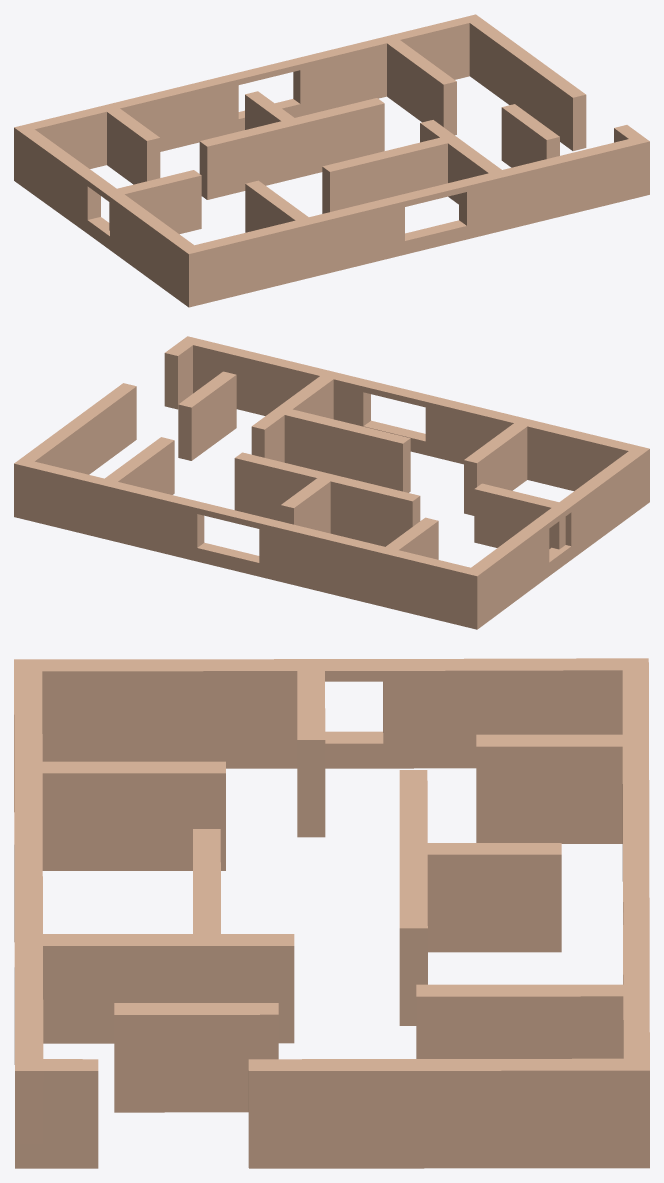
Rendered from Level 7.fbx.
3 renders of one model, top to bottom at view 1: azimuth 30°, elevation 25°; view 2: azimuth 150°, elevation 25°; view 3: azimuth 270°, elevation 25°, orthographic. The views are drawn at different scales.
Visible parts, largest first — view 1: polySurface81; view 2: polySurface81; view 3: polySurface81.
Part boxes in pixels (bbox=[...]): polySurface81: bbox=[14, 14, 649, 307]; polySurface81: bbox=[14, 336, 649, 629]; polySurface81: bbox=[14, 658, 649, 1168].
Bounding box in the file's own units: 154 × 16.93 × 99.98.
